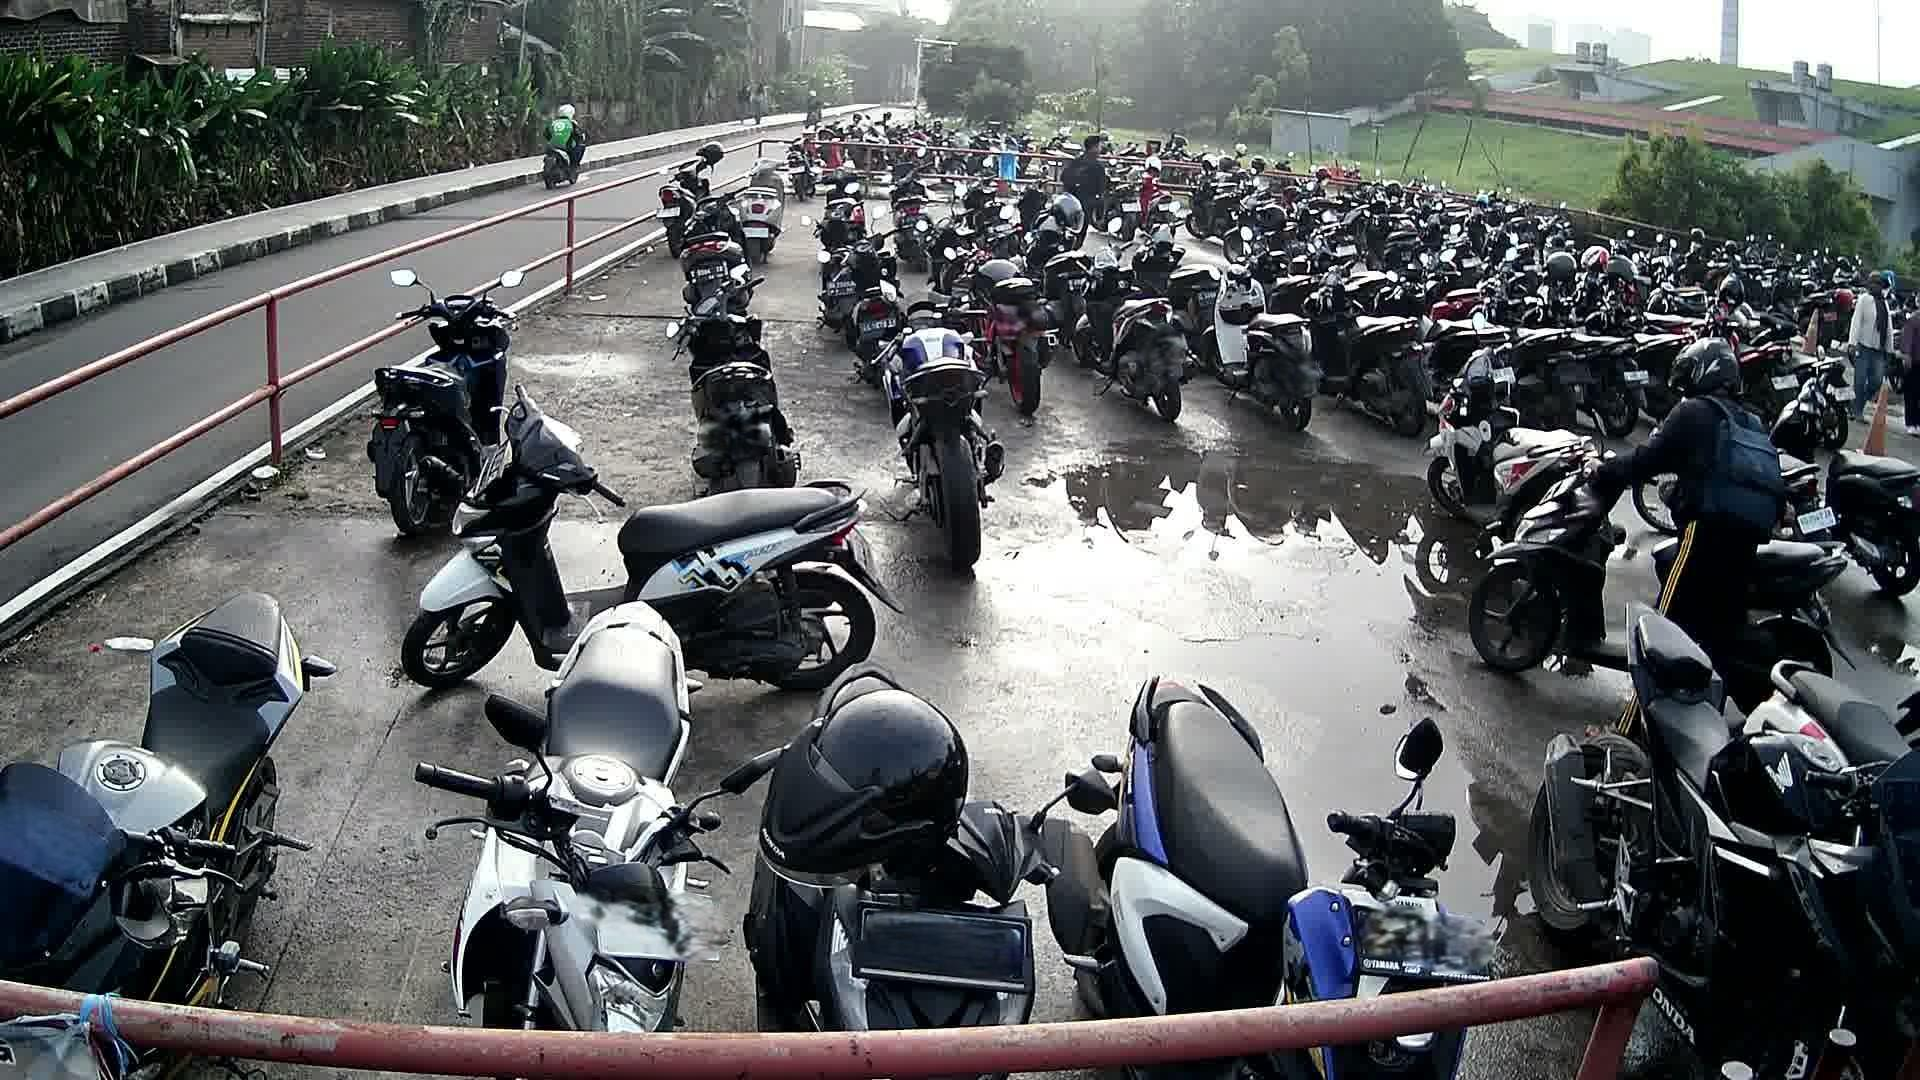motorcycle: (397, 384, 899, 696), (1036, 673, 1494, 1005), (1523, 601, 1920, 965), (1, 587, 338, 1009), (414, 601, 731, 1033), (742, 669, 1056, 1029), (1470, 439, 1857, 700), (368, 266, 526, 542), (880, 293, 1015, 555), (1775, 381, 1920, 601), (666, 282, 803, 477), (1743, 640, 1920, 773), (1428, 344, 1575, 489)
